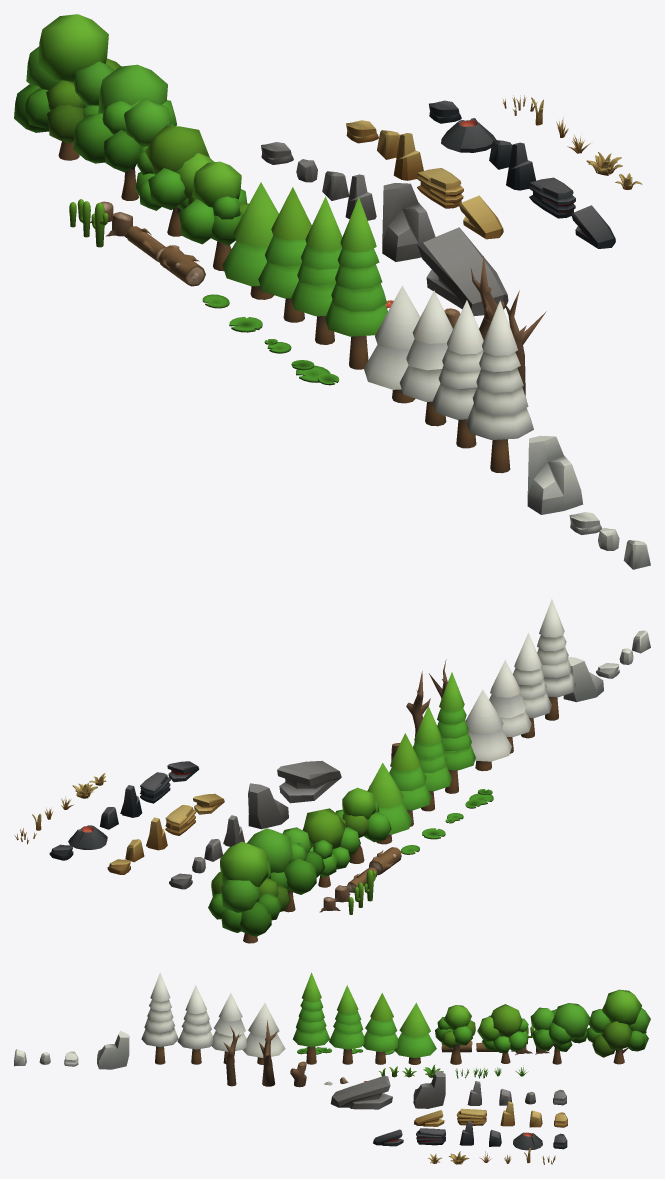
File: Props.FBX
3 views of the same model, one above another, from view 1: azimuth 30°, elevation 25°; view 2: azimuth 150°, elevation 25°; view 3: azimuth 270°, elevation 25° (orthographic). The views are drawn at different scales.
Parts seen in each view (by area): view 1: Tree04, Tree03, TreeSnow04, Tree08, Tree02, Tree01, Rock01, TreeSnow03, Tree07, Tree06, TreeSnow02, TreeSnow01 (+14 smaller); view 2: Tree04, Tree03, Tree02, TreeSnow04, Tree08, TreeSnow01, Tree01, TreeSnow03, Tree07, Rock01, Tree06, TreeSnow02 (+11 smaller); view 3: Tree04, Tree03, Tree02, TreeSnow04, Tree08, Tree07, TreeSnow03, Tree06, Rock01, Tree05, Tree01, TreeSnow02 (+11 smaller).
Boxes of the visible parts, x1,y1,x2,y2 form: Tree04: (14,14,121,160); Tree03: (73,64,176,200); TreeSnow04: (466,300,533,473); Tree08: (325,197,387,369); Tree02: (135,125,214,236); Tree01: (178,161,248,271); Rock01: (417,227,508,316); TreeSnow03: (432,300,483,448); Tree07: (291,196,342,344); Tree06: (258,187,311,322); TreeSnow02: (399,290,452,426); TreeSnow01: (364,285,420,403); Tree04: (208,841,290,943); Tree03: (247,827,324,912); Tree02: (302,808,360,887); TreeSnow04: (537,599,575,720); Tree08: (437,672,475,793); TreeSnow01: (465,689,511,771); Tree01: (335,787,391,863); TreeSnow03: (513,633,551,738); Tree07: (413,706,451,811); Rock01: (277,761,341,803); Tree06: (389,733,431,826); TreeSnow02: (489,660,531,753); Tree04: (587,989,650,1064); Tree03: (530,1003,590,1064); Tree02: (477,1004,528,1063); TreeSnow04: (141,972,178,1064); Tree08: (293,972,329,1064); Tree07: (329,985,364,1064); TreeSnow03: (177,985,212,1064); Tree06: (363,993,398,1064); Rock01: (330,1075,392,1109); Tree05: (394,1002,436,1064); Tree01: (435,1005,475,1064); TreeSnow02: (211,993,246,1063).
Size of the model in its own units: 1613 by 3488 by 549.
